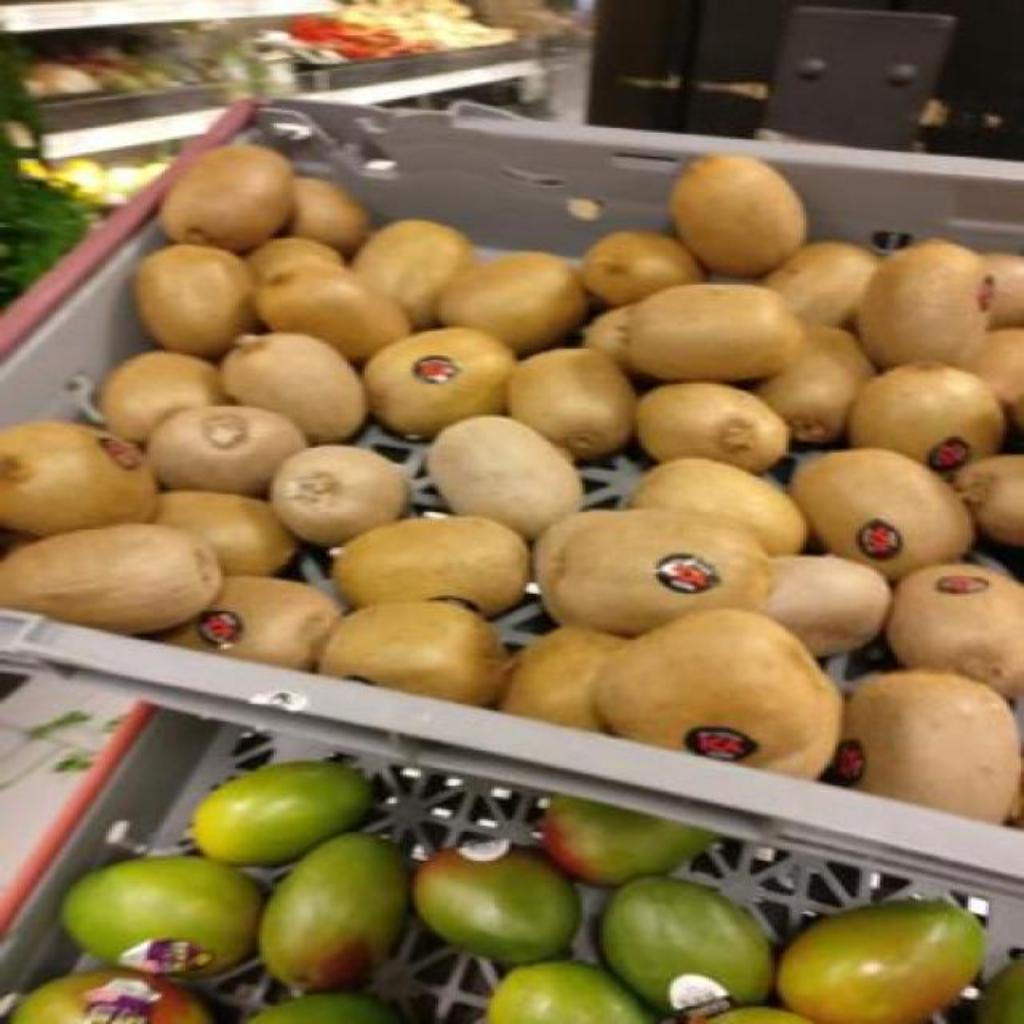kiwi: (597, 612, 843, 778), (536, 510, 773, 636), (824, 670, 1019, 822), (3, 524, 221, 634), (792, 448, 968, 580), (323, 602, 507, 706), (333, 518, 528, 616), (427, 416, 579, 538), (888, 564, 1021, 696), (856, 240, 992, 366), (4, 424, 157, 536), (631, 458, 803, 556), (163, 576, 341, 670), (365, 328, 517, 438), (859, 240, 989, 366), (632, 286, 803, 380), (672, 154, 803, 276), (851, 366, 1000, 472), (224, 334, 365, 444), (440, 252, 589, 354), (256, 266, 411, 362), (149, 406, 307, 496), (757, 324, 875, 444), (509, 352, 635, 460), (637, 382, 787, 472), (163, 146, 291, 250), (272, 446, 405, 546), (136, 244, 253, 356), (352, 220, 472, 328), (505, 628, 629, 730), (765, 556, 891, 656), (155, 490, 299, 576), (101, 352, 227, 444), (763, 242, 880, 324), (584, 232, 704, 306), (955, 457, 1024, 546), (291, 179, 371, 254), (968, 329, 1024, 430), (248, 236, 344, 284), (584, 305, 637, 372), (988, 252, 1024, 327), (668, 739, 683, 748)
